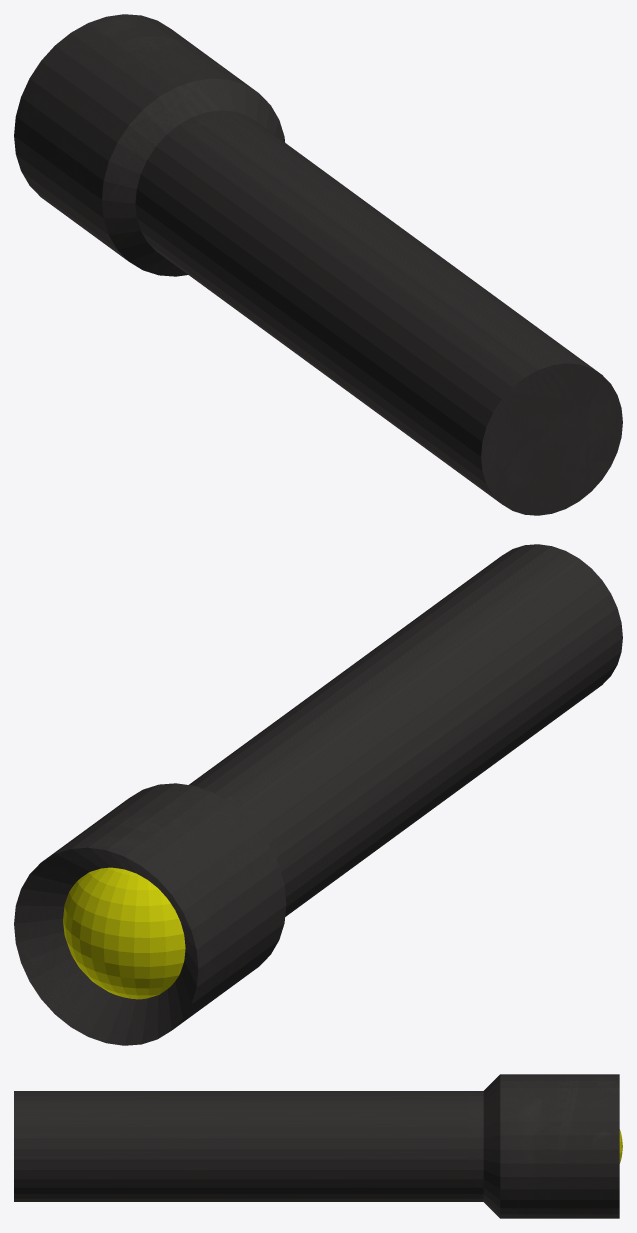
File: Torch.obj
3 views of the same model, one above another, from view 1: azimuth 30°, elevation 25°; view 2: azimuth 150°, elevation 25°; view 3: azimuth 270°, elevation 25° (orthographic). The views are drawn at different scales.
Parts seen in each view (by area): view 1: Cylinder, Cylinder.001; view 2: Cylinder, Cylinder.001, Sphere; view 3: Cylinder, Cylinder.001.
Part boxes in pixels (x1,y1,x2,y2): Cylinder: (135,110,622,515); Cylinder.001: (14,14,284,276); Cylinder: (189,544,622,916); Cylinder.001: (14,783,286,1045); Sphere: (63,867,185,999); Cylinder: (14,1091,483,1201); Cylinder.001: (483,1074,619,1218).
Bounding box in the file's own units: 2.6 × 2.6 × 10.94.
